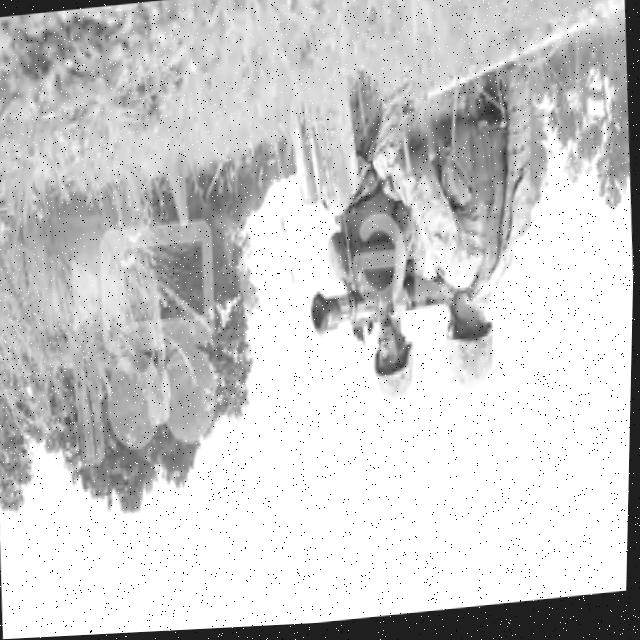rocket: (309, 270, 454, 337)
